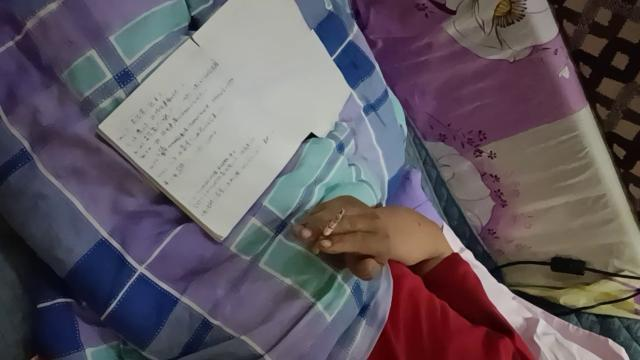Smoking: (309, 208, 346, 256)
